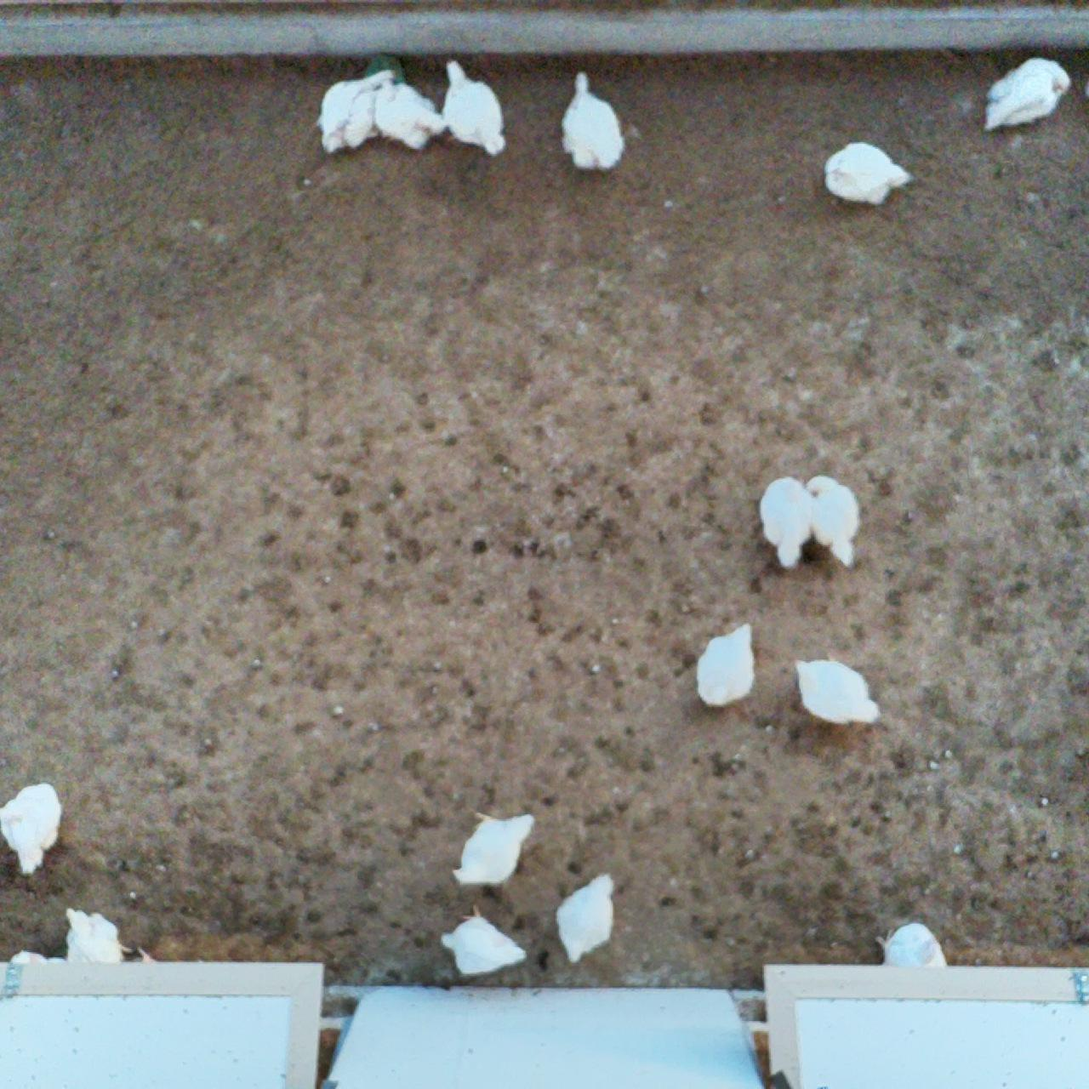chicken: (436, 55, 513, 159), (978, 55, 1075, 136), (555, 70, 629, 174), (315, 67, 397, 157), (447, 809, 537, 891), (817, 140, 917, 212), (788, 651, 884, 726), (0, 776, 71, 875), (438, 900, 529, 976), (694, 620, 764, 713), (552, 869, 618, 967), (804, 468, 865, 572), (373, 74, 447, 148), (761, 474, 816, 569), (58, 903, 136, 966), (870, 916, 951, 971)
